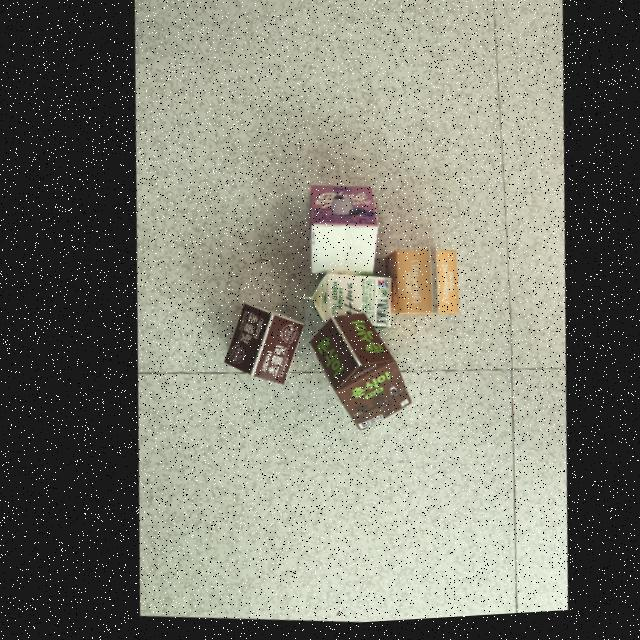milk: (302, 316, 401, 432), (215, 304, 296, 386), (305, 187, 373, 278), (379, 251, 452, 318), (297, 276, 385, 330)
